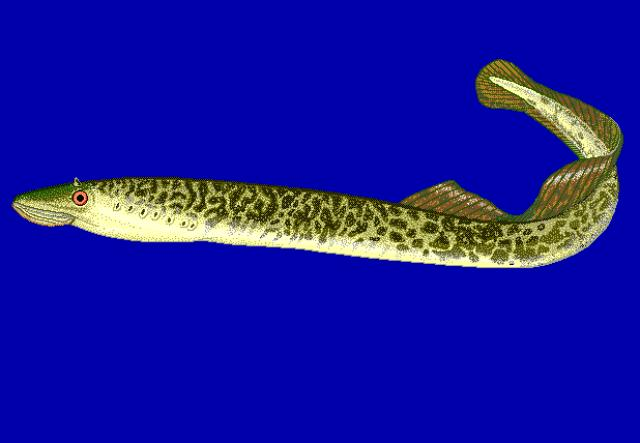Sirip Ekor: (456, 47, 586, 141)
